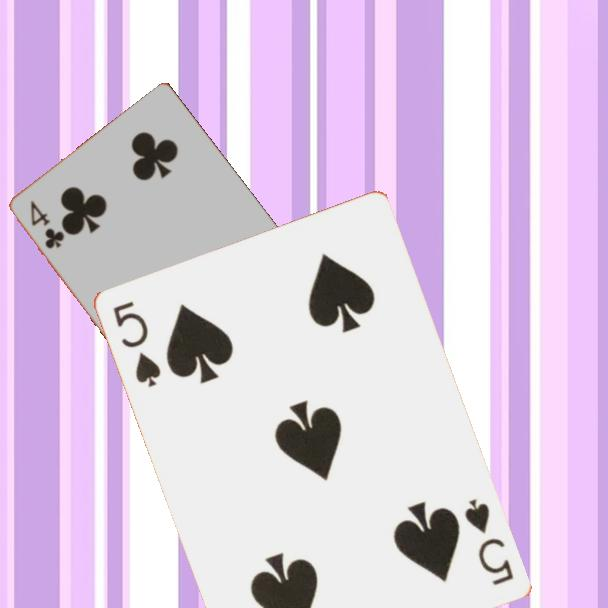c04: (27, 197, 67, 252)
s05: (461, 495, 517, 589), (110, 298, 165, 391)
